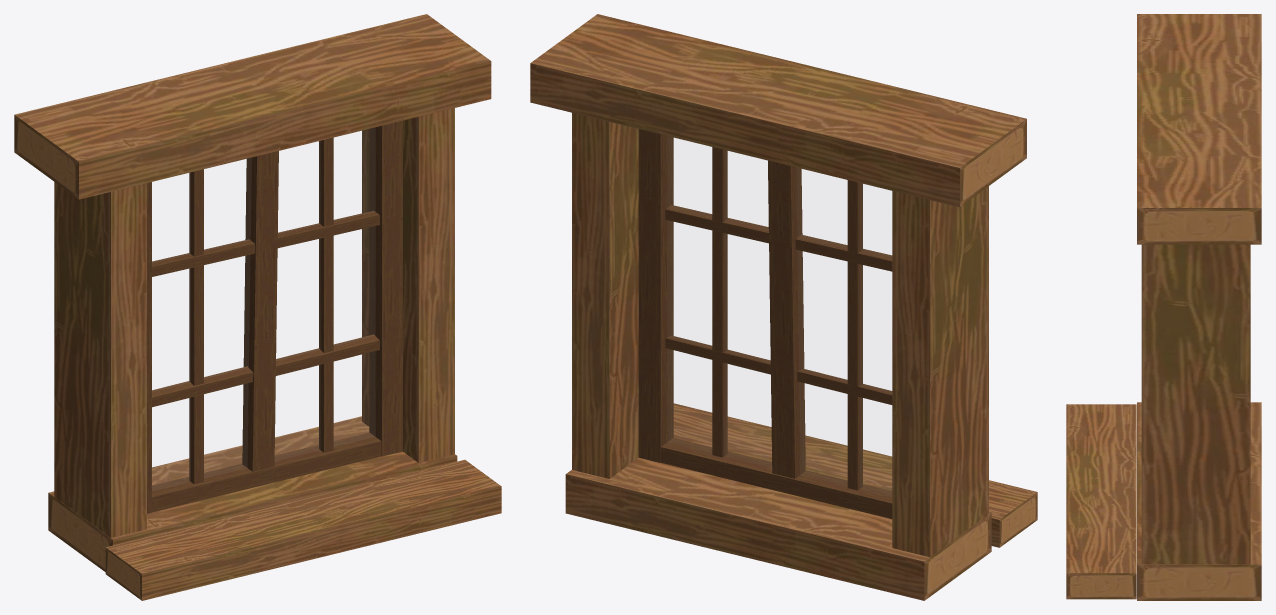
File: mv_window_square.glb
3 views of the same model, side by side, from view 1: azimuth 30°, elevation 25°; view 2: azimuth 150°, elevation 25°; view 3: azimuth 270°, elevation 25° (orthographic). The views are drawn at different scales.
Parts seen in each view (by area): view 1: Window_Wide_Flat1; view 2: Window_Wide_Flat1; view 3: Window_Wide_Flat1.
Part boxes in pixels (x1=…): Window_Wide_Flat1: x1=14, y1=14, x2=501, y2=600; Window_Wide_Flat1: x1=530, y1=14, x2=1037, y2=600; Window_Wide_Flat1: x1=1066, y1=14, x2=1261, y2=600.
Bounding box in the file's own units: 1.61 × 1.58 × 0.6835.
2 materials, 1 textured.
